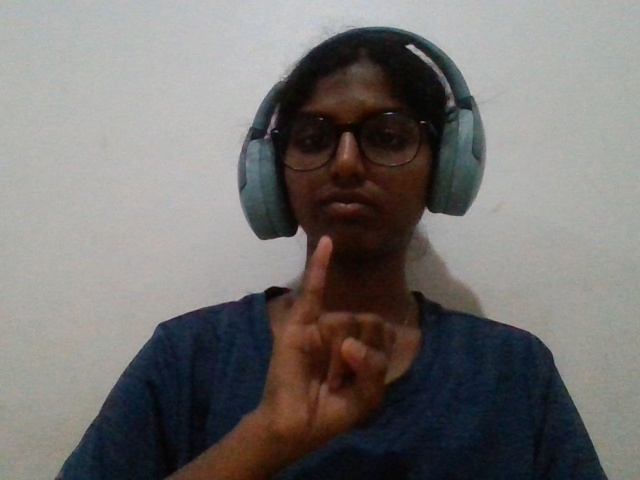I: (236, 223, 423, 473)
